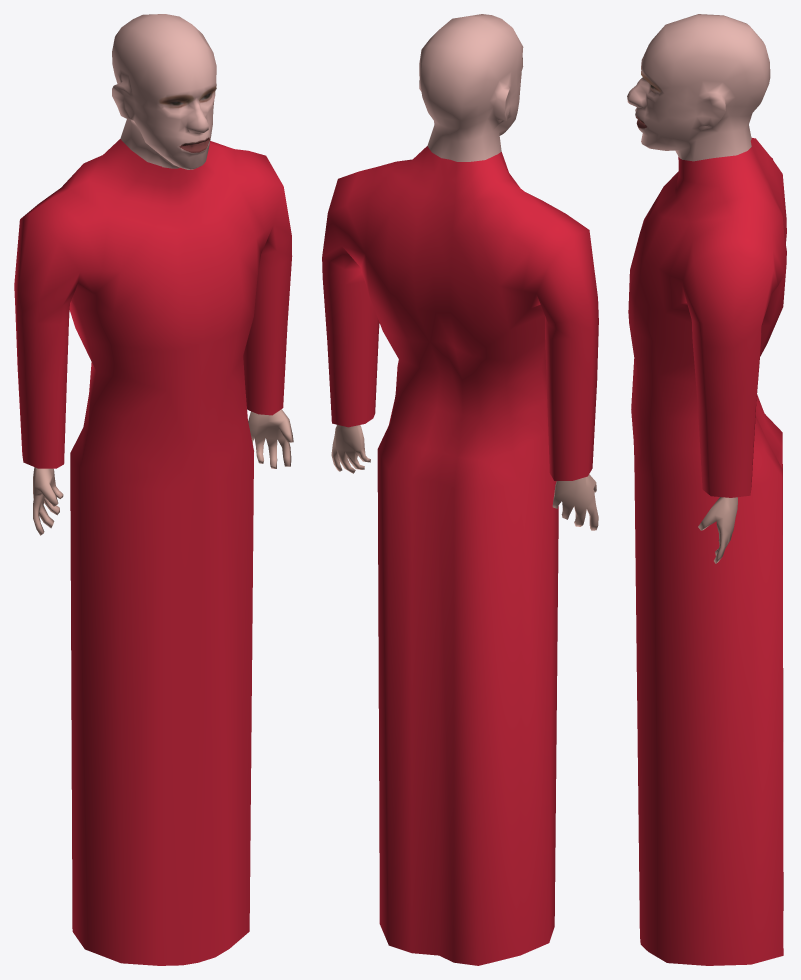
Rendered from gownfigure3.dae.
3 views of the same model, side by side, from view 1: azimuth 30°, elevation 25°; view 2: azimuth 150°, elevation 25°; view 3: azimuth 270°, elevation 25° (orthographic).
Visible parts, largest first — view 1: base_human_male_default_001; view 2: base_human_male_default_001; view 3: base_human_male_default_001.
Part boxes in pixels (<box>): base_human_male_default_001: <box>14,14,293,965</box>; base_human_male_default_001: <box>322,14,598,965</box>; base_human_male_default_001: <box>627,14,786,965</box>.
Bounding box in the file's own units: 0.2313 × 0.1194 × 0.7577.
4 materials, 1 textured.
